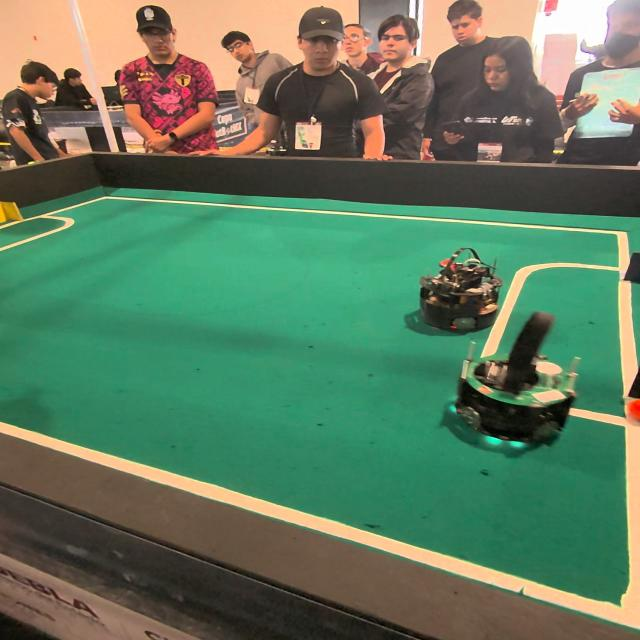Robot: (440, 310, 590, 467), (419, 246, 504, 336)
